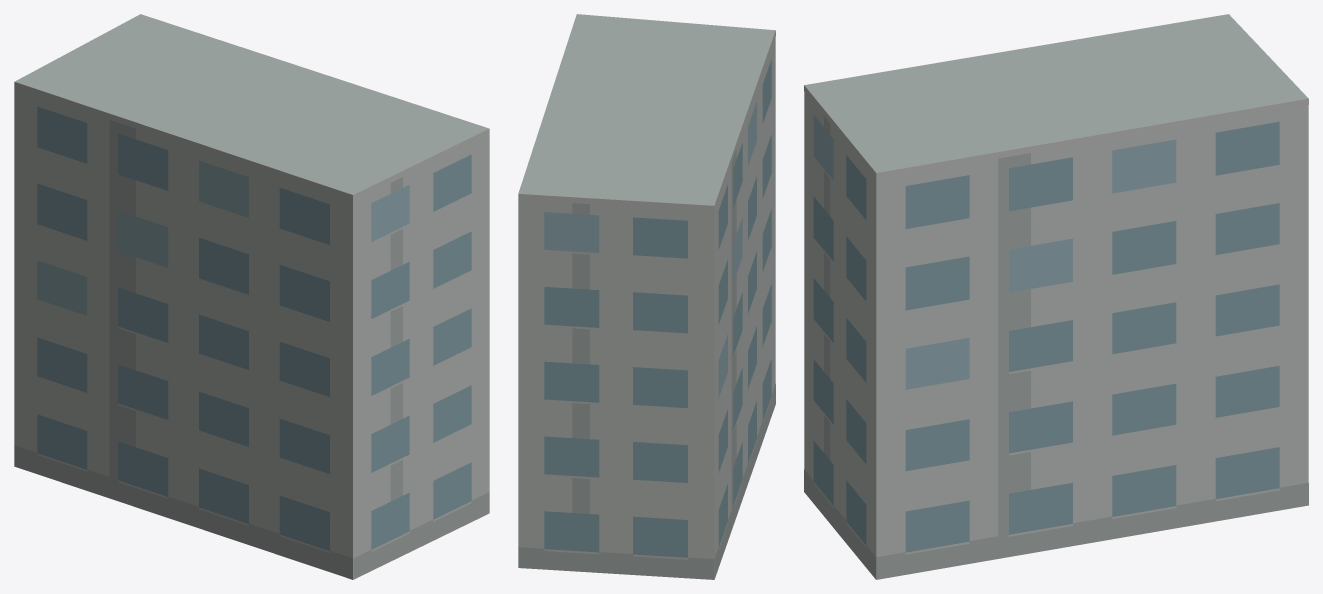
File: residential-9aeaf8ee-06a2-4b07-8447-cdfb4a28dadc.glb
3 renders of one model, left to right at view 1: azimuth 30°, elevation 25°; view 2: azimuth 150°, elevation 25°; view 3: azimuth 270°, elevation 25°, orthographic. The views are drawn at different scales.
Parts seen in each view (by area): view 1: residential-9aeaf8ee-06a2-4b07-8447-cdfb4a28dadc.tmp; view 2: residential-9aeaf8ee-06a2-4b07-8447-cdfb4a28dadc.tmp; view 3: residential-9aeaf8ee-06a2-4b07-8447-cdfb4a28dadc.tmp.
Boxes of the visible parts, bbox=[...] form: residential-9aeaf8ee-06a2-4b07-8447-cdfb4a28dadc.tmp: bbox=[14, 14, 489, 579]; residential-9aeaf8ee-06a2-4b07-8447-cdfb4a28dadc.tmp: bbox=[518, 14, 775, 579]; residential-9aeaf8ee-06a2-4b07-8447-cdfb4a28dadc.tmp: bbox=[804, 14, 1308, 579].
Bounding box in the file's own units: 12.8 × 15.25 × 17.15.
